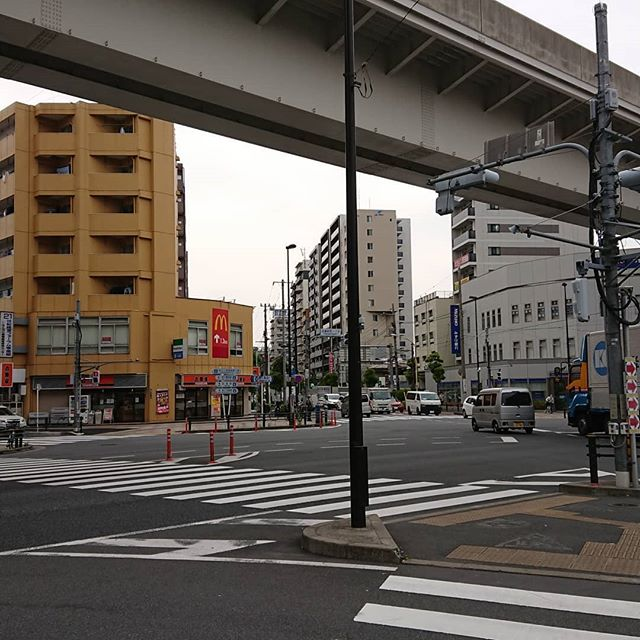bridge: (1, 1, 633, 242)
building: (1, 87, 251, 414), (445, 199, 640, 395), (307, 217, 416, 370)
car: (458, 382, 543, 440)
crosswalk: (1, 455, 511, 529), (366, 557, 640, 640)
street: (1, 422, 591, 640)
